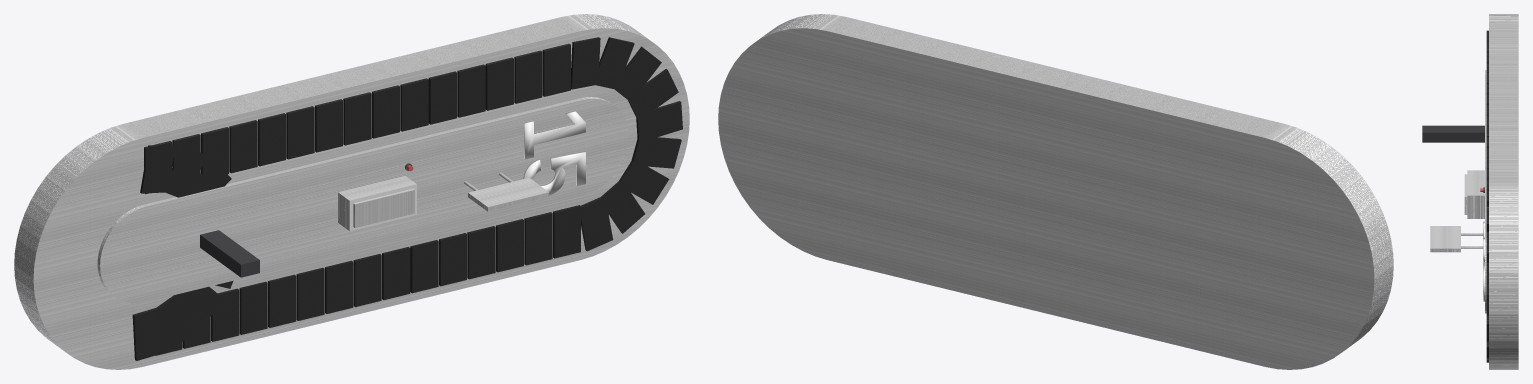
File: Đảo nhận hành lý 15.glb
The picture shows the model from 3 angles, left to right: view 1: azimuth 30°, elevation 25°; view 2: azimuth 150°, elevation 25°; view 3: azimuth 270°, elevation 25°; orthographic projection. The views are drawn at different scales.
Visible parts, largest first — view 1: conveyor_belt, frame, center_platform, service_box, number_node_15, information_screen_frame, number_sign_body; view 2: frame; view 3: frame, number_sign_body, conveyor_belt, service_box, information_screen_frame, center_platform, number_node_15.
Boxes of the visible parts, bbox=[...] form: conveyor_belt: bbox=[132, 37, 682, 360]; frame: bbox=[14, 14, 689, 369]; center_platform: bbox=[97, 97, 628, 303]; service_box: bbox=[338, 176, 416, 231]; number_node_15: bbox=[523, 111, 585, 195]; information_screen_frame: bbox=[464, 172, 549, 211]; number_sign_body: bbox=[200, 230, 259, 277]; frame: bbox=[718, 14, 1393, 369]; frame: bbox=[1489, 14, 1518, 369]; number_sign_body: bbox=[1422, 125, 1484, 142]; conveyor_belt: bbox=[1486, 30, 1488, 362]; service_box: bbox=[1464, 170, 1484, 218]; information_screen_frame: bbox=[1430, 226, 1483, 252]; center_platform: bbox=[1485, 70, 1486, 313]; number_node_15: bbox=[1483, 221, 1484, 301].
Bounding box in the file's own units: 18 × 6 × 3.
Materials: 8 (7 with a texture image).
